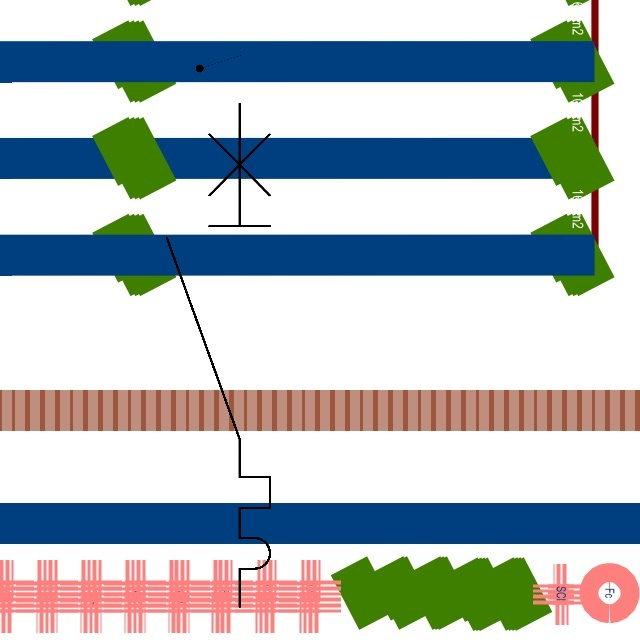interruptor_termomagnetico: (154, 90, 283, 619)
